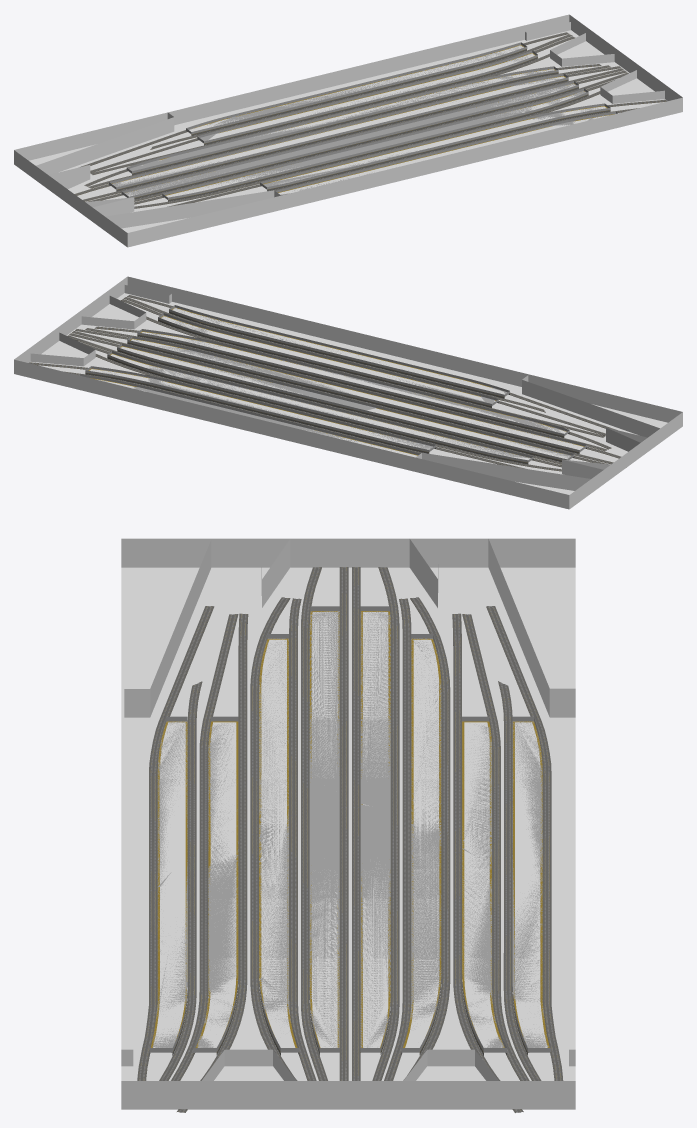
Rendered from Home.fbx.
3 views of the same model, one above another, from view 1: azimuth 30°, elevation 25°; view 2: azimuth 150°, elevation 25°; view 3: azimuth 270°, elevation 25° (orthographic). The views are drawn at different scales.
Visible parts, largest first — view 1: Home_Walls, Home_COL, Platforms, Tracks, Home_Ground; view 2: Home_Walls, Home_COL, Platforms, Tracks, Home_Ground; view 3: Home_Ground, Platforms, Tracks, Home_COL, Home_Walls.
Part boxes in pixels (x1,y1,x2,y2): Home_Walls: [14, 14, 682, 247]; Home_COL: [109, 42, 617, 199]; Platforms: [109, 45, 614, 201]; Tracks: [74, 32, 667, 208]; Home_Ground: [29, 30, 665, 232]; Home_Walls: [14, 276, 682, 509]; Home_COL: [79, 305, 586, 462]; Platforms: [85, 307, 586, 464]; Tracks: [29, 295, 626, 471]; Home_Ground: [30, 293, 667, 494]; Home_Ground: [121, 567, 575, 1080]; Platforms: [149, 611, 550, 1055]; Tracks: [137, 567, 563, 1112]; Home_COL: [149, 606, 550, 1052]; Home_Walls: [121, 538, 575, 1109].
Size of the model in its own units: 49445 by 1231 by 17390.
4 materials, 1 textured.
